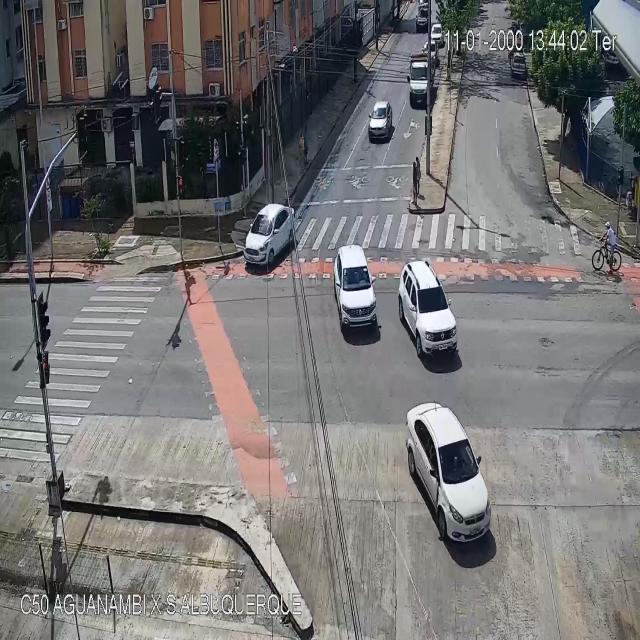Car: (406, 400, 493, 546), (398, 261, 458, 358), (333, 244, 379, 332), (243, 201, 296, 260), (368, 103, 393, 139), (422, 41, 438, 62), (511, 54, 526, 74), (430, 24, 442, 46), (416, 8, 429, 28)
Truck: (406, 53, 436, 99)
